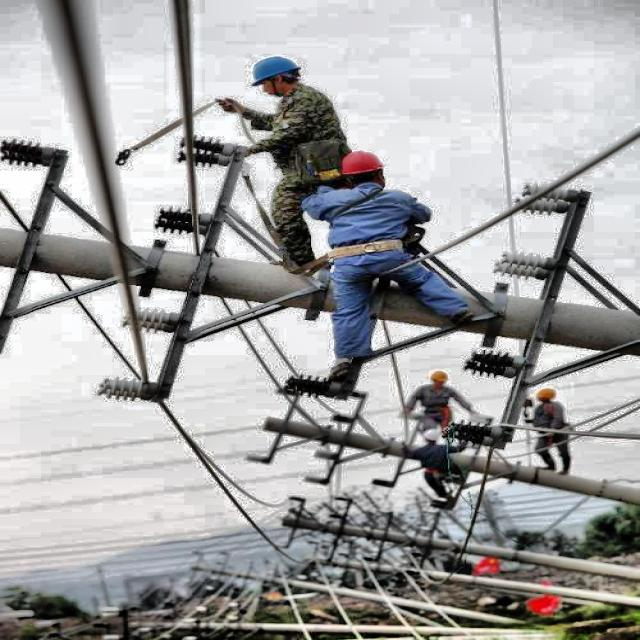helmet: (242, 48, 305, 102), (336, 150, 386, 196), (531, 384, 561, 409), (425, 370, 451, 392)
